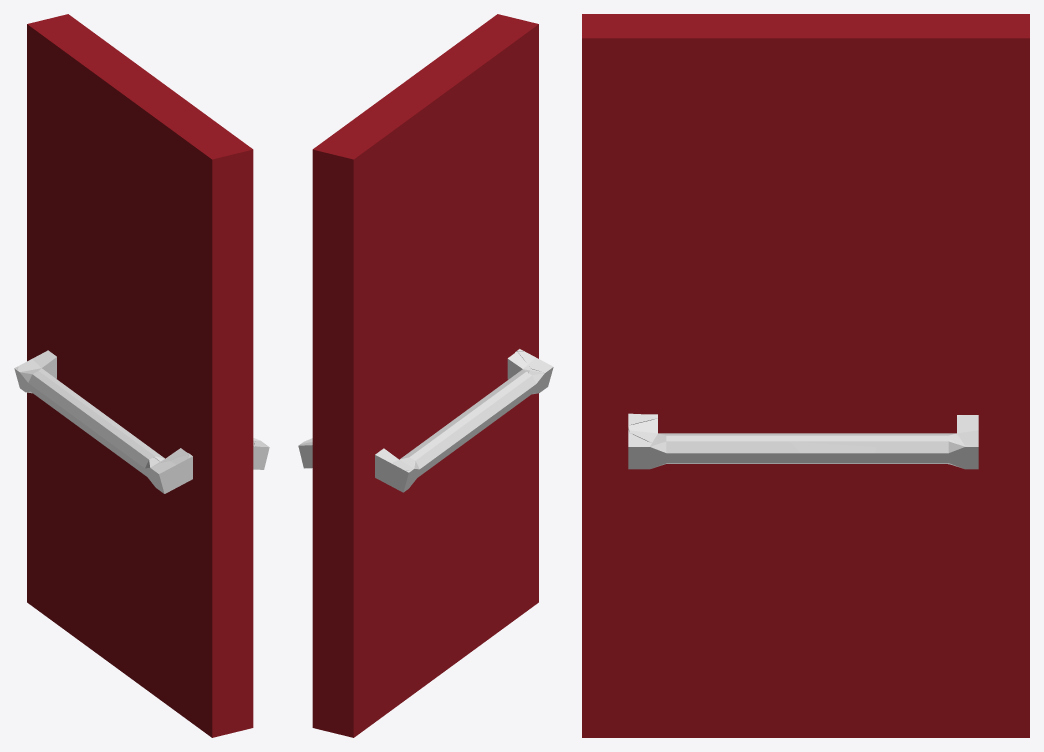
The model's file is Door.fbx.
The picture shows the model from 3 angles, left to right: view 1: azimuth 30°, elevation 25°; view 2: azimuth 150°, elevation 25°; view 3: azimuth 270°, elevation 25°; orthographic projection. The views are drawn at different scales.
Parts seen in each view (by area): view 1: Door, Door_cell.002, Door_cell.001, Door_cell.003, Door_cell, ruf2, Door_cell.006, ruf2_cell.001, ruf2_cell.010; view 2: Door, Door_cell.002, Door_cell.001, Door_cell.003, Door_cell, ruf2, Door_cell.006, ruf2_cell.013; view 3: Door, Door_cell.002, Door_cell.003, Door_cell.001, Door_cell, Ruf1, Ruf1_cell.012, Ruf1_cell.023, Ruf1_cell.010, Door_cell.006, Ruf1_cell.017, Ruf1_cell.014 (+1 smaller).
Part boxes in pixels (box(x1,y1,x2,y2)): Door: box(27, 21, 253, 737); Door_cell.002: box(27, 270, 176, 675); Door_cell.001: box(96, 54, 253, 501); Door_cell.003: box(27, 24, 127, 353); Door_cell: box(142, 496, 246, 734); ruf2: box(16, 351, 192, 493); Door_cell.006: box(37, 14, 109, 44); ruf2_cell.001: box(90, 420, 126, 460); ruf2_cell.010: box(151, 454, 189, 487); Door: box(312, 28, 538, 737); Door_cell.002: box(313, 344, 506, 728); Door_cell.001: box(368, 14, 538, 381); Door_cell.003: box(316, 110, 453, 402); Door_cell: box(468, 393, 538, 651); ruf2: box(375, 351, 553, 492); Door_cell.006: box(313, 119, 354, 161); ruf2_cell.013: box(437, 413, 482, 458); Door: box(582, 14, 1029, 737); Door_cell.002: box(624, 302, 1029, 737); Door_cell.003: box(831, 38, 1029, 310); Door_cell.001: box(582, 14, 896, 467); Door_cell: box(582, 466, 712, 737); Ruf1: box(628, 414, 978, 469); Ruf1_cell.012: box(686, 433, 781, 463); Ruf1_cell.023: box(876, 438, 971, 466); Ruf1_cell.010: box(779, 433, 881, 463); Door_cell.006: box(929, 19, 1029, 59); Ruf1_cell.017: box(628, 434, 657, 469); Ruf1_cell.014: box(756, 438, 799, 463).
Bounding box in the file's own units: 47.68 × 238 × 138.
